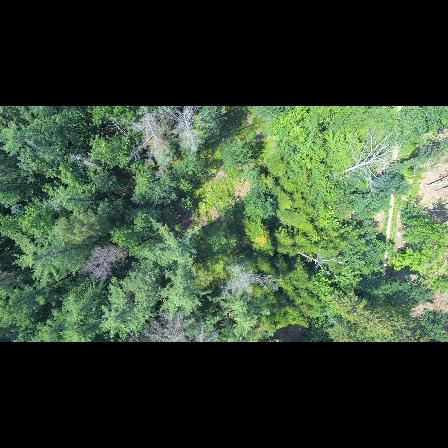Dead: (337, 132, 391, 190), (129, 309, 221, 341), (125, 109, 169, 163), (169, 106, 211, 161), (222, 262, 280, 300), (81, 239, 131, 281), (68, 148, 107, 179)
